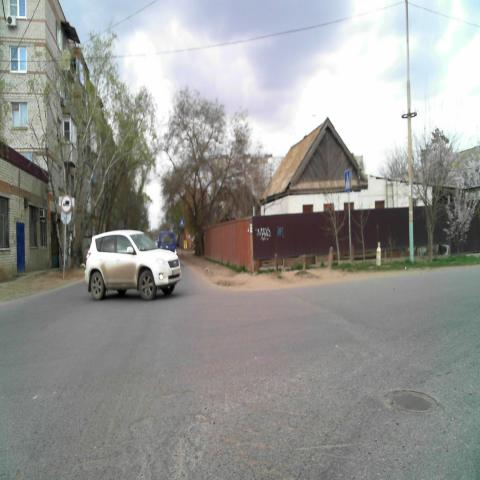3_4_1: (62, 194, 72, 212)
5_19_1: (344, 169, 350, 192)
5_20: (180, 218, 184, 228)
